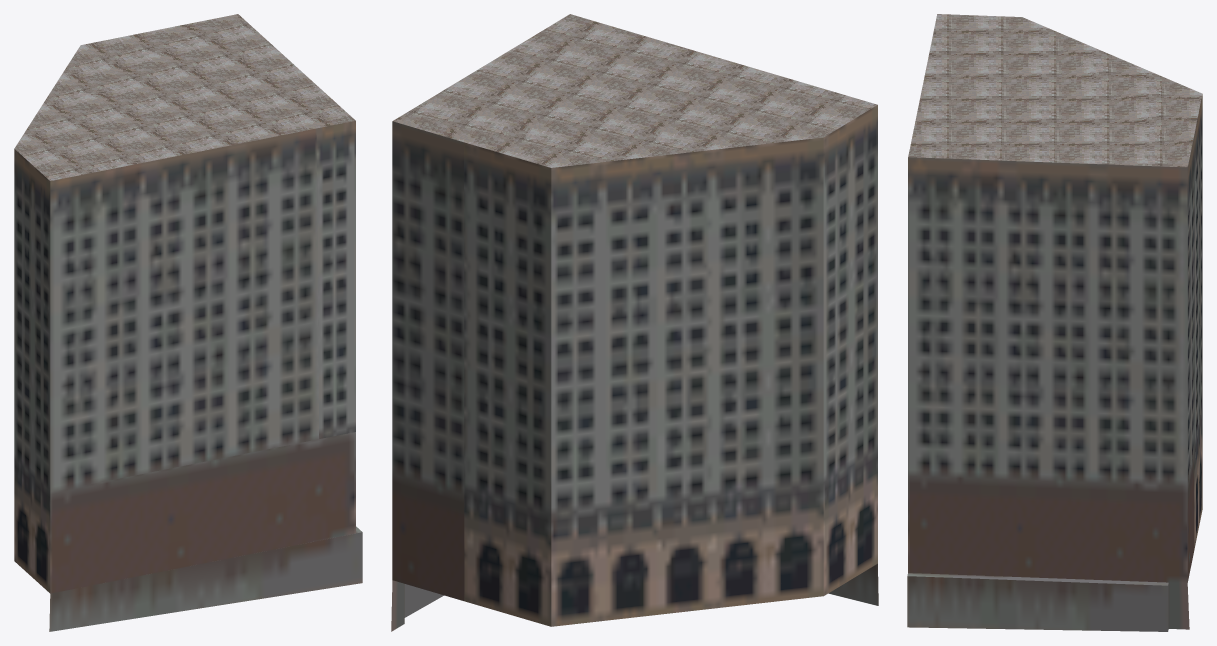
The model's file is lodstolenbuilds11.obj.
The picture shows the model from 3 angles, left to right: view 1: azimuth 30°, elevation 25°; view 2: azimuth 150°, elevation 25°; view 3: azimuth 270°, elevation 25°; orthographic projection. The views are drawn at different scales.
Parts seen in each view (by area): view 1: LODstolenbuilds11; view 2: LODstolenbuilds11; view 3: LODstolenbuilds11.
Part boxes in pixels (x1,y1,x2,y2): LODstolenbuilds11: (14, 14, 362, 631); LODstolenbuilds11: (391, 14, 878, 631); LODstolenbuilds11: (907, 14, 1202, 631).
Size of the model in its own units: 55.23 by 76.96 by 44.08.
Materials: 2 (2 with a texture image).
